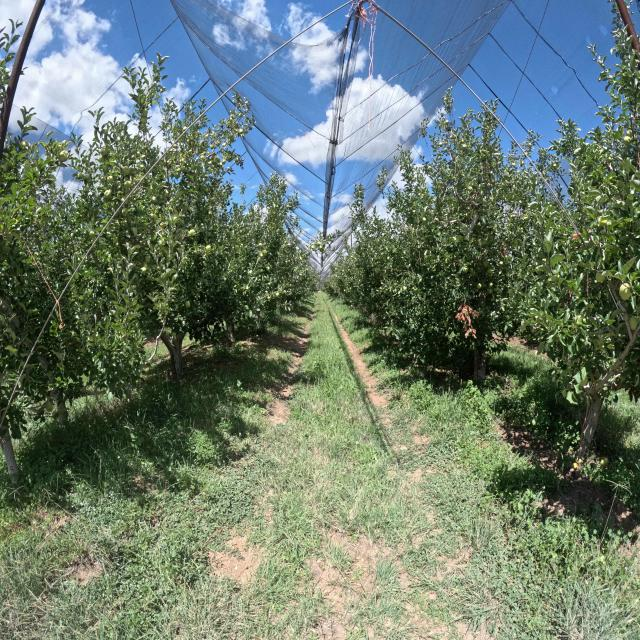-FireBlight-: (456, 304, 480, 340)
